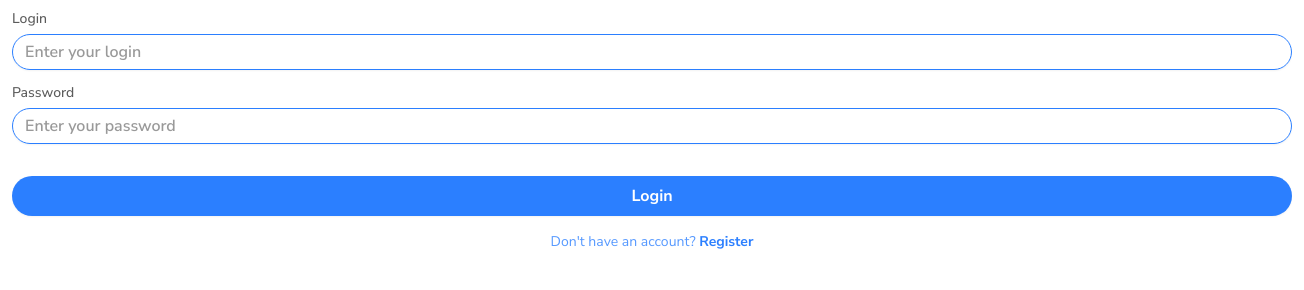
Test: LoginForm › should show validation error for short password
The width and height of the screenshot is (1304, 290).
In the password field labelled "Password": (652, 126) x1=12 y1=108 x2=1292 y2=144, type "123"
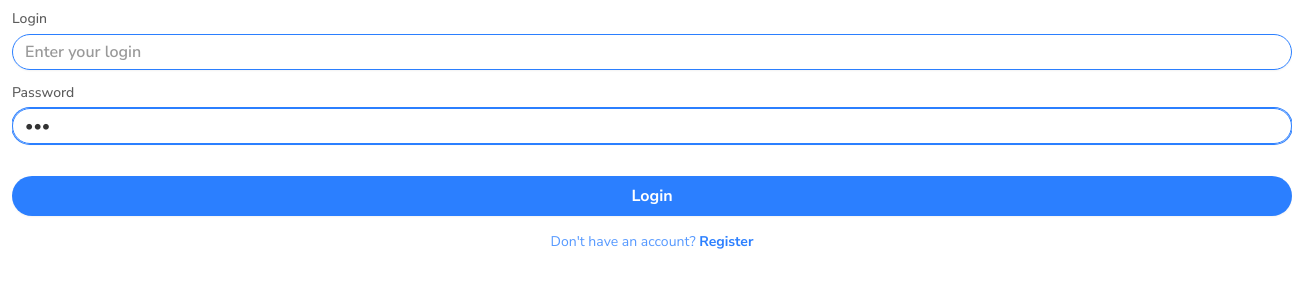
Press Tab
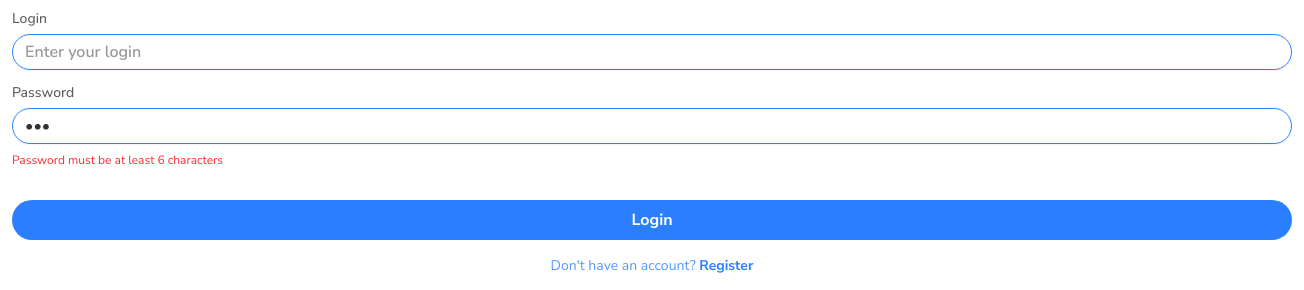
Check: the text "Password must be at least 6 characters" is shown, box x1=12 y1=152 x2=223 y2=168
